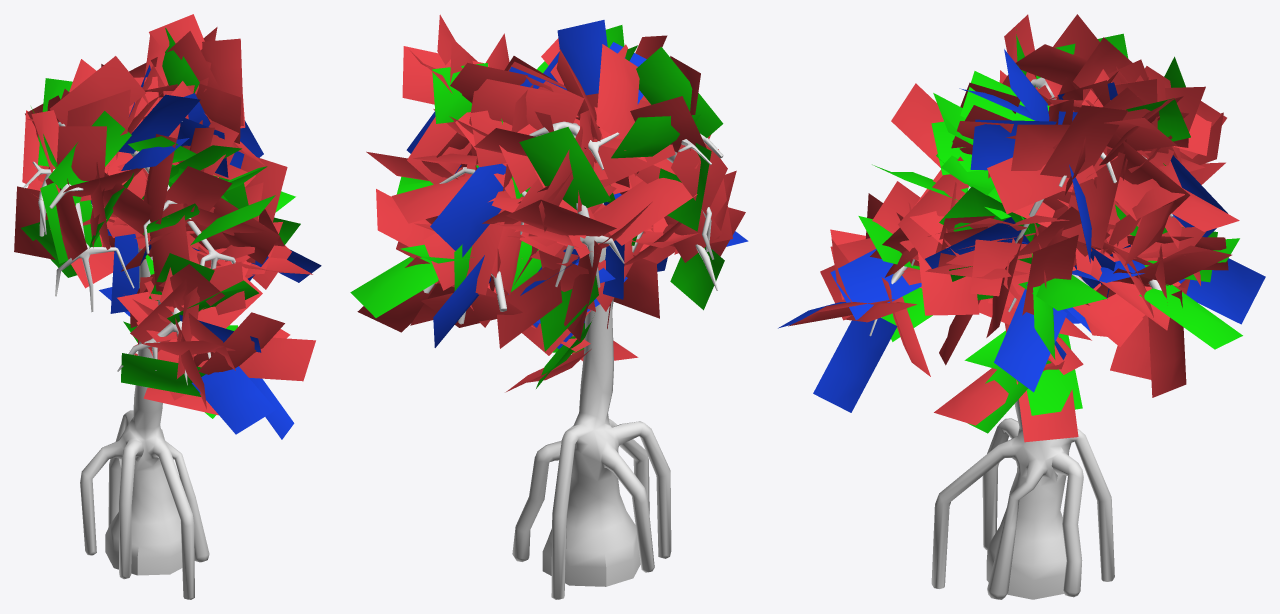
File: swampBoom5.fbx
3 renders of one model, left to right at view 1: azimuth 30°, elevation 25°; view 2: azimuth 150°, elevation 25°; view 3: azimuth 270°, elevation 25°, orthographic. The views are drawn at different scales.
Visible parts, largest first — view 1: Plane; view 2: Plane; view 3: Plane.
Boxes of the visible parts, bbox=[...] form: Plane: bbox=[14, 14, 321, 599]; Plane: bbox=[350, 14, 748, 599]; Plane: bbox=[778, 14, 1265, 599].
Size of the model in its own units: 661 by 1133 by 910.
